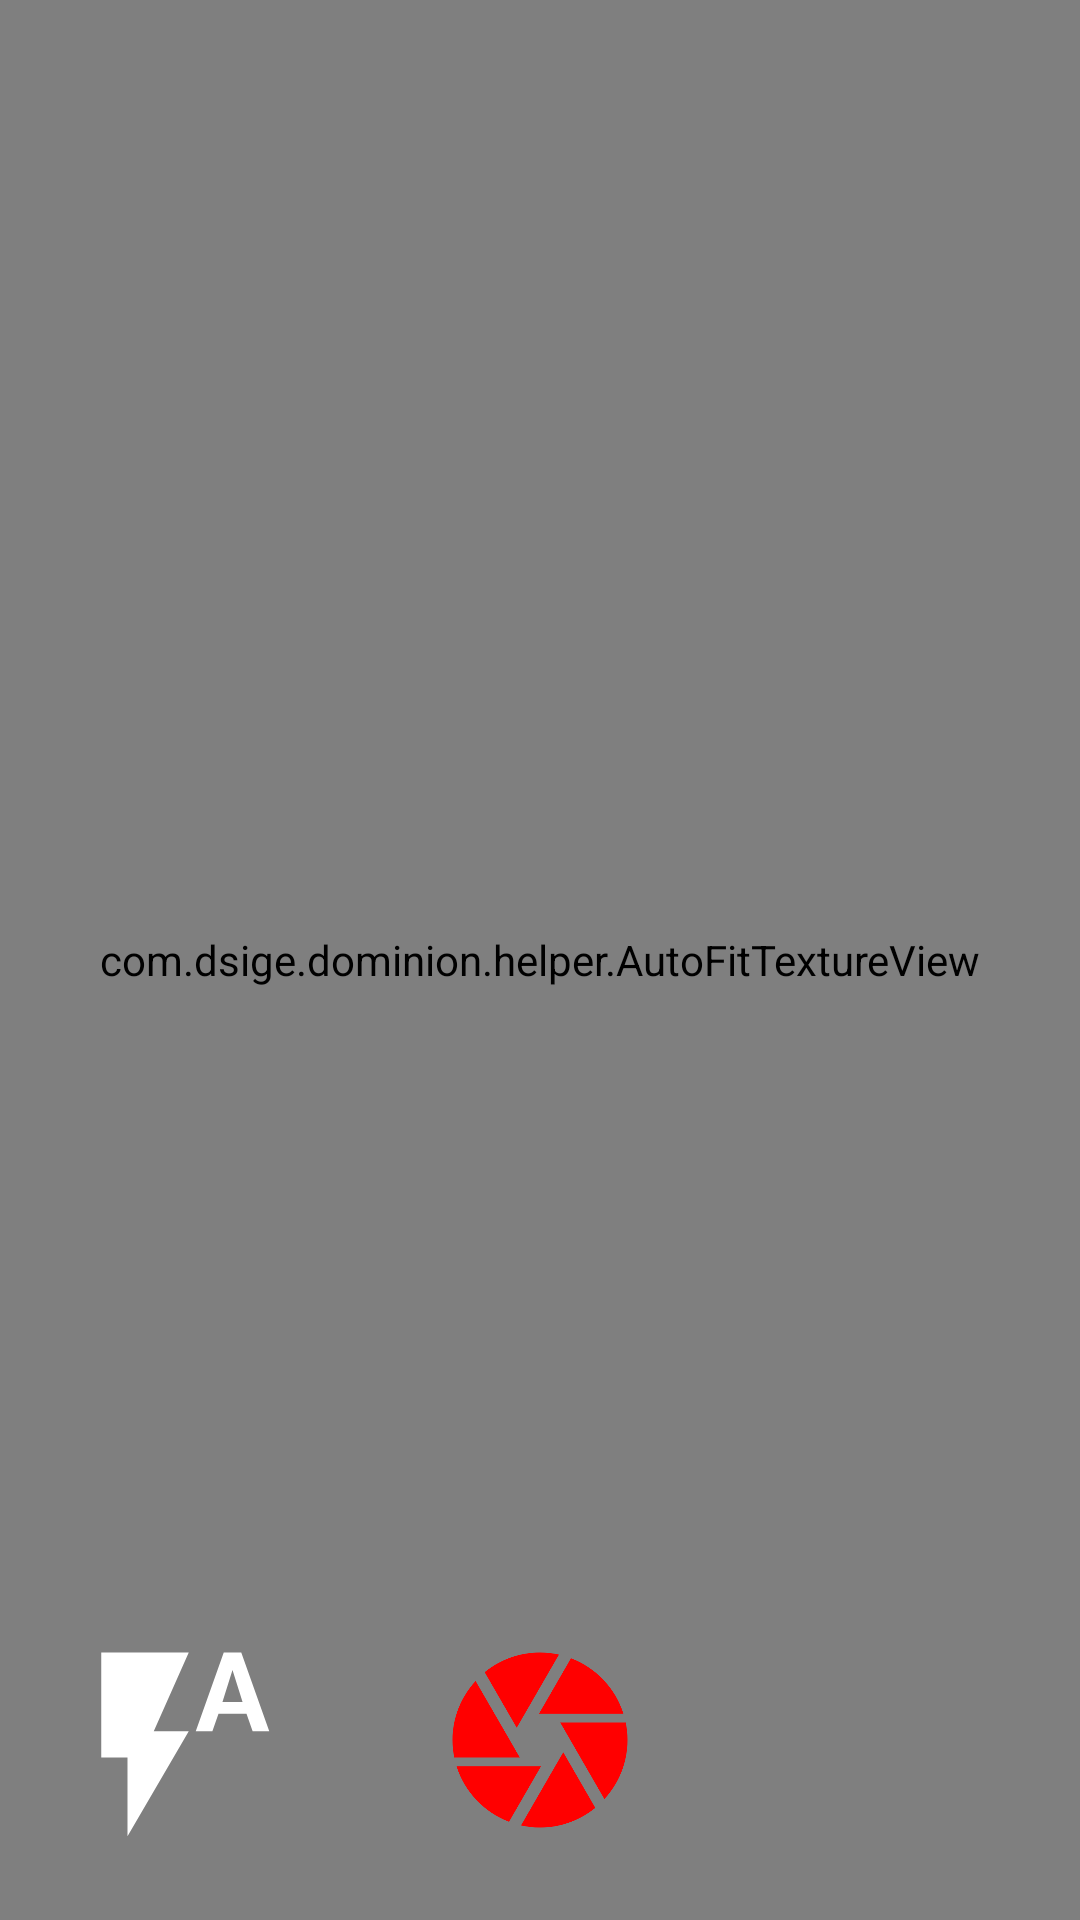

Icon bounding boxes for this 1080*1920 phone screenshot, format (x1, y1, x2, y2):
camera lens: (452, 1652, 628, 1828)
flash auto: (101, 1652, 269, 1836)
